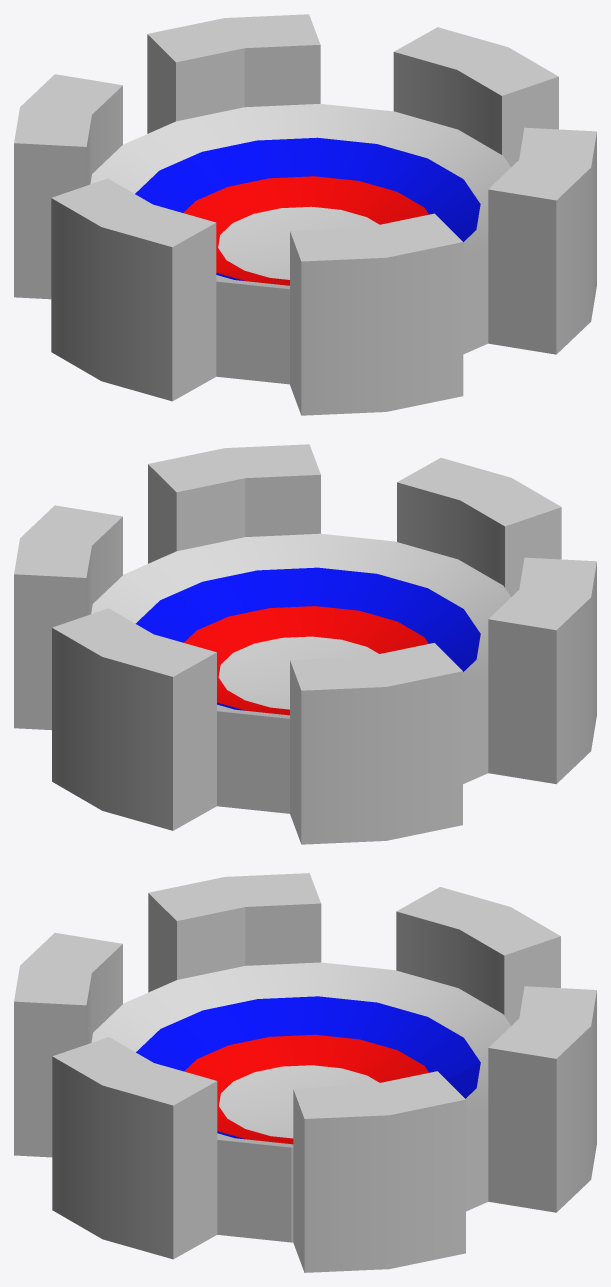
File: KomaStage.FBX
3 renders of one model, top to bottom at view 1: azimuth 30°, elevation 25°; view 2: azimuth 150°, elevation 25°; view 3: azimuth 270°, elevation 25°, orthographic.
Visible parts, largest first — view 1: TopStage, BreakWall3, RotateStage2, BreakWall1, BreakWall2, RotateStage1; view 2: TopStage, BreakWall2, RotateStage2, BreakWall1, BreakWall3, RotateStage1; view 3: TopStage, BreakWall1, BreakWall3, RotateStage2, BreakWall2, RotateStage1.
Boxes of the visible parts, x1=… form: TopStage: x1=51, y1=14, x2=596, y2=401; BreakWall3: x1=290, y1=213, x2=463, y2=415; RotateStage2: x1=135, y1=137, x2=480, y2=281; BreakWall1: x1=393, y1=27, x2=558, y2=167; BreakWall2: x1=14, y1=74, x2=122, y2=299; RotateStage1: x1=183, y1=176, x2=428, y2=285; TopStage: x1=52, y1=444, x2=596, y2=830; BreakWall2: x1=290, y1=643, x2=462, y2=844; RotateStage2: x1=135, y1=567, x2=480, y2=710; BreakWall1: x1=14, y1=505, x2=122, y2=730; BreakWall3: x1=397, y1=457, x2=561, y2=596; RotateStage1: x1=184, y1=606, x2=428, y2=715; TopStage: x1=52, y1=873, x2=596, y2=1259; BreakWall1: x1=293, y1=1071, x2=465, y2=1272; BreakWall3: x1=14, y1=933, x2=122, y2=1157; RotateStage2: x1=136, y1=996, x2=480, y2=1139; BreakWall2: x1=396, y1=887, x2=560, y2=1025; RotateStage1: x1=184, y1=1034, x2=428, y2=1144.
Bounding box in the file's own units: 1044 × 304 × 1045.
